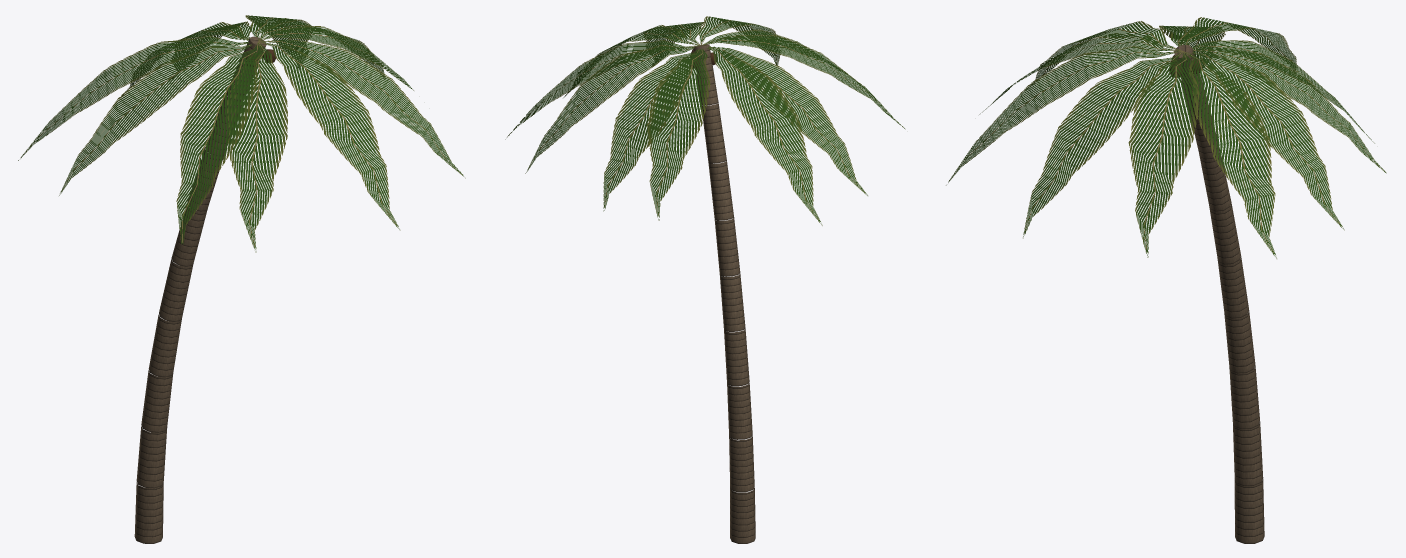
File: SM_Art_Veg_Palm_1.gltf
3 renders of one model, left to right at view 1: azimuth 30°, elevation 25°; view 2: azimuth 150°, elevation 25°; view 3: azimuth 270°, elevation 25°, orthographic. The views are drawn at different scales.
Parts seen in each view (by area): view 1: SM_Art_Veg_Palm_1; view 2: SM_Art_Veg_Palm_1; view 3: SM_Art_Veg_Palm_1.
Boxes of the visible parts, x1,y1,x2,y2 form: SM_Art_Veg_Palm_1: (18, 15, 465, 543); SM_Art_Veg_Palm_1: (505, 16, 905, 543); SM_Art_Veg_Palm_1: (946, 17, 1386, 543).
Bounding box in the file's own units: 6.02 × 7.76 × 5.97.
Materials: 3 (3 with a texture image).
